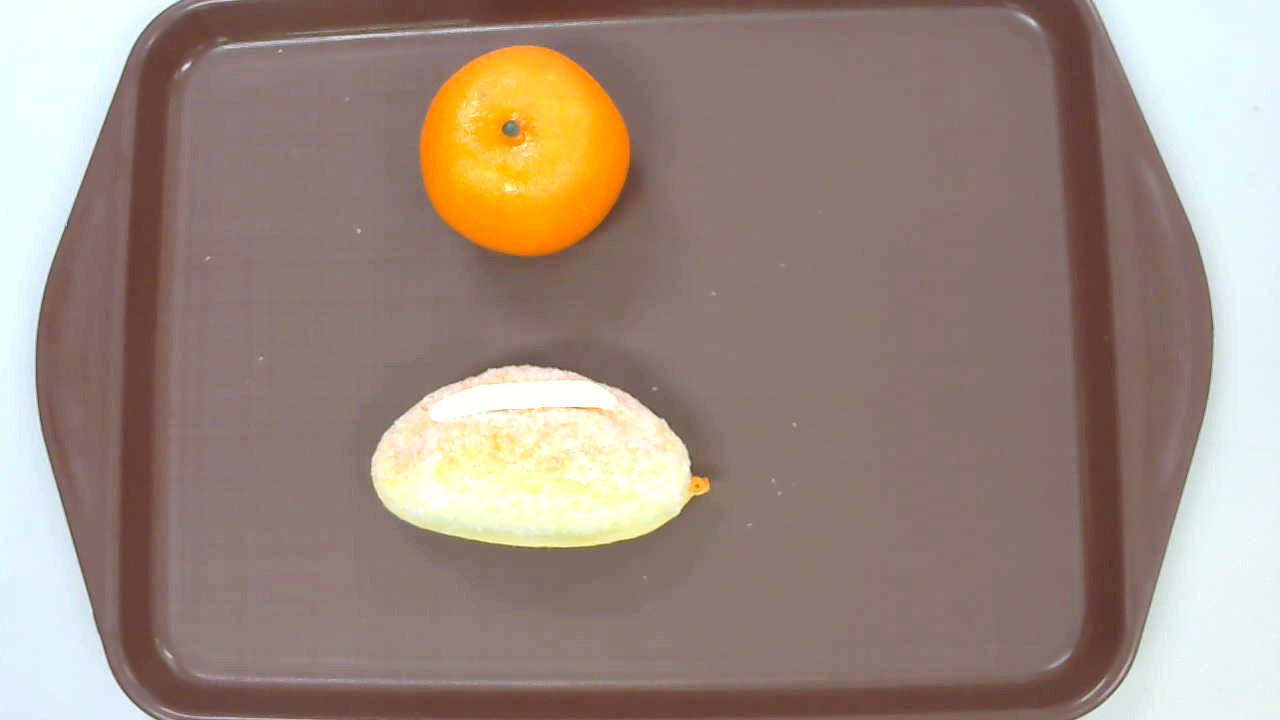coconut: (369, 363, 710, 551)
orange: (419, 45, 630, 257)
